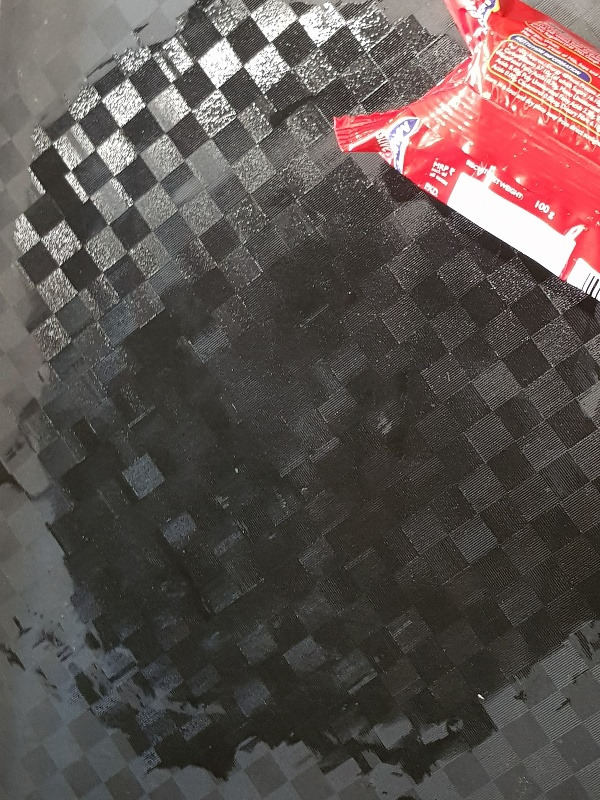Mcvitie's Digestive: (331, 1, 600, 309)
